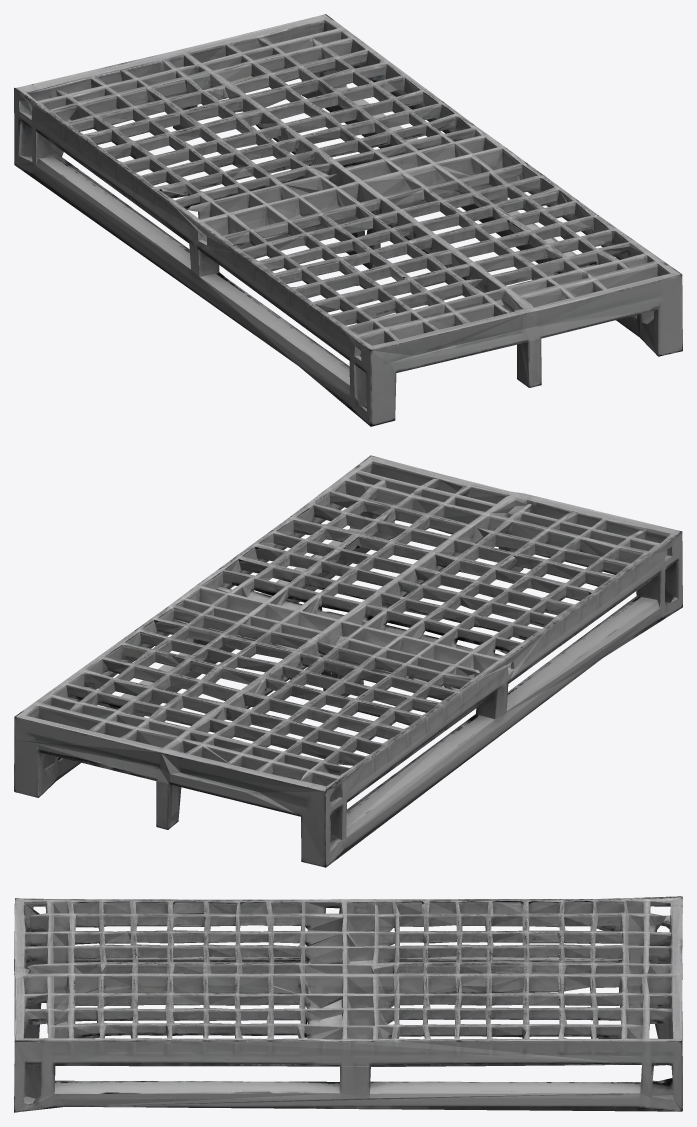
3 renders of one model, top to bottom at view 1: azimuth 30°, elevation 25°; view 2: azimuth 150°, elevation 25°; view 3: azimuth 270°, elevation 25°, orthographic. The views are drawn at different scales.
Visible parts, largest first — view 1: geometry_0; view 2: geometry_0; view 3: geometry_0.
Part boxes in pixels (x1,y1,x2,y2): geometry_0: (14, 14, 682, 426); geometry_0: (14, 455, 682, 867); geometry_0: (14, 896, 682, 1112).
Bounding box in the file's own units: 0.5048 × 0.1225 × 1.
Materials: 1 (1 with a texture image).
